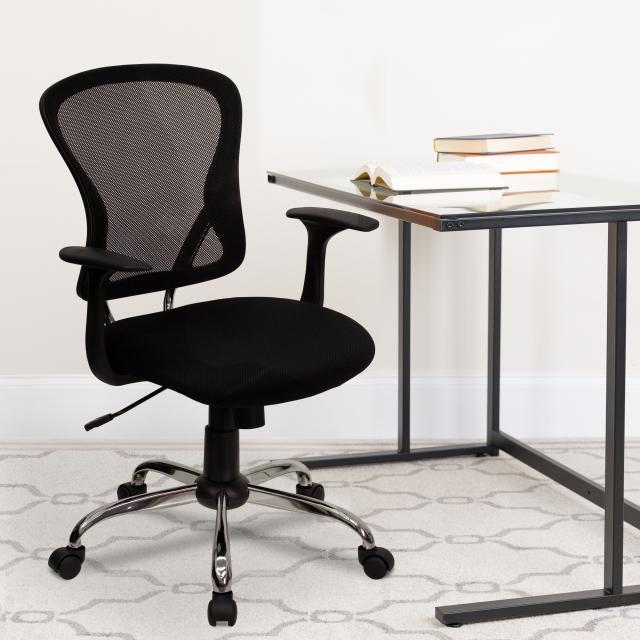chair: (10, 57, 403, 635)
table: (245, 147, 640, 627)
